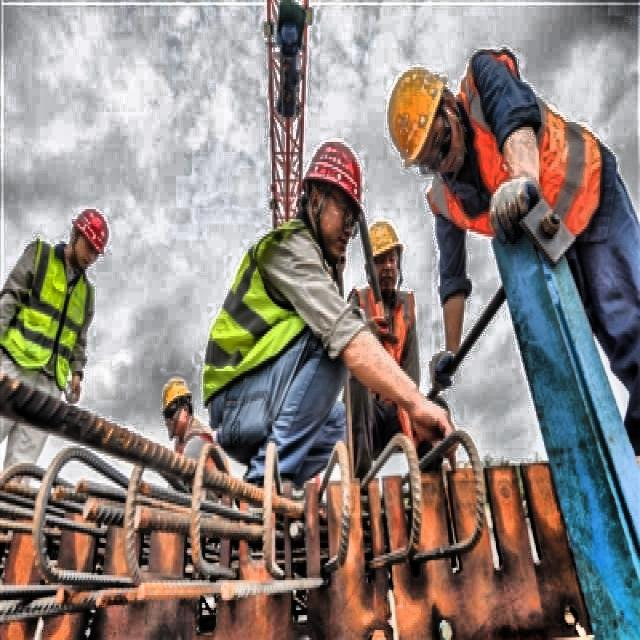person: (382, 44, 640, 433), (206, 134, 368, 496), (5, 202, 109, 440), (348, 219, 420, 404)
